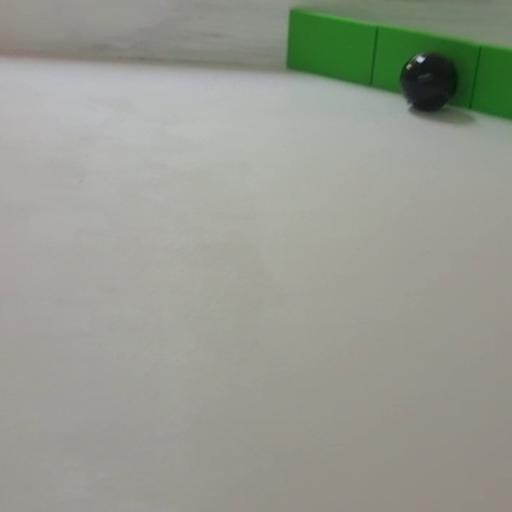dead: (398, 50, 460, 112)
